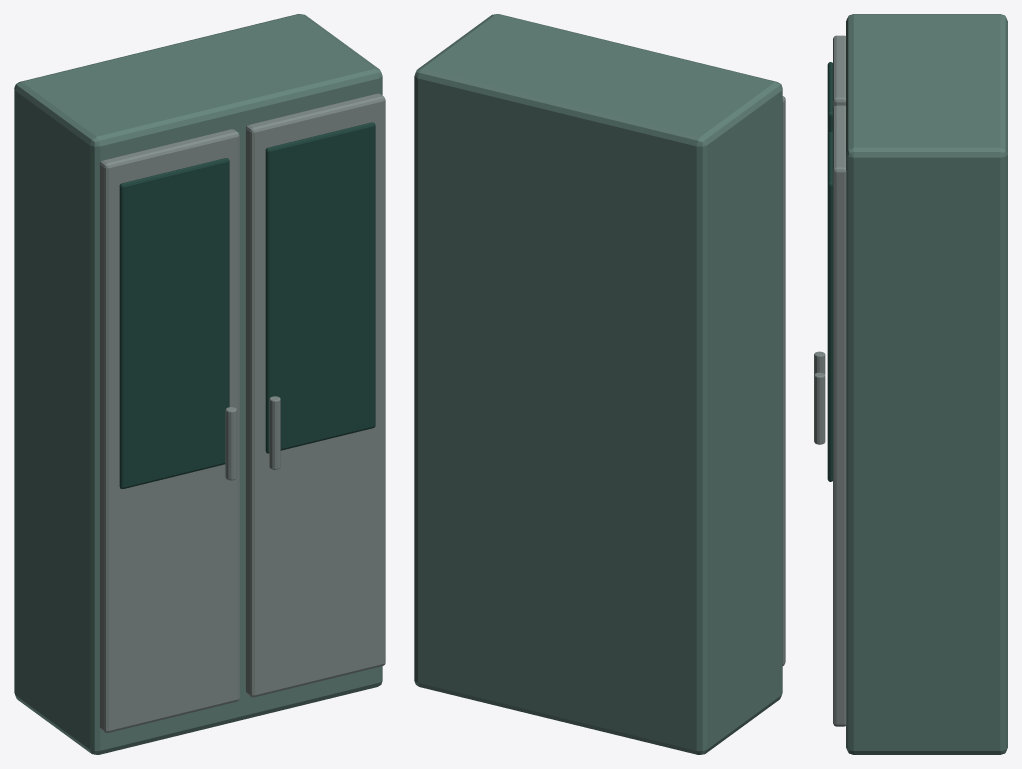
The model's file is H_MedicineCabinet.fbx.
3 views of the same model, side by side, from view 1: azimuth 30°, elevation 25°; view 2: azimuth 150°, elevation 25°; view 3: azimuth 270°, elevation 25° (orthographic).
Visible parts, largest first — view 1: H_MedicineCabinet; view 2: H_MedicineCabinet; view 3: H_MedicineCabinet.
Boxes of the visible parts, bbox=[...] form: H_MedicineCabinet: bbox=[14, 14, 385, 754]; H_MedicineCabinet: bbox=[414, 14, 785, 754]; H_MedicineCabinet: bbox=[814, 14, 1007, 754].
Size of the model in its own units: 0.88 by 1.78 by 0.515.
